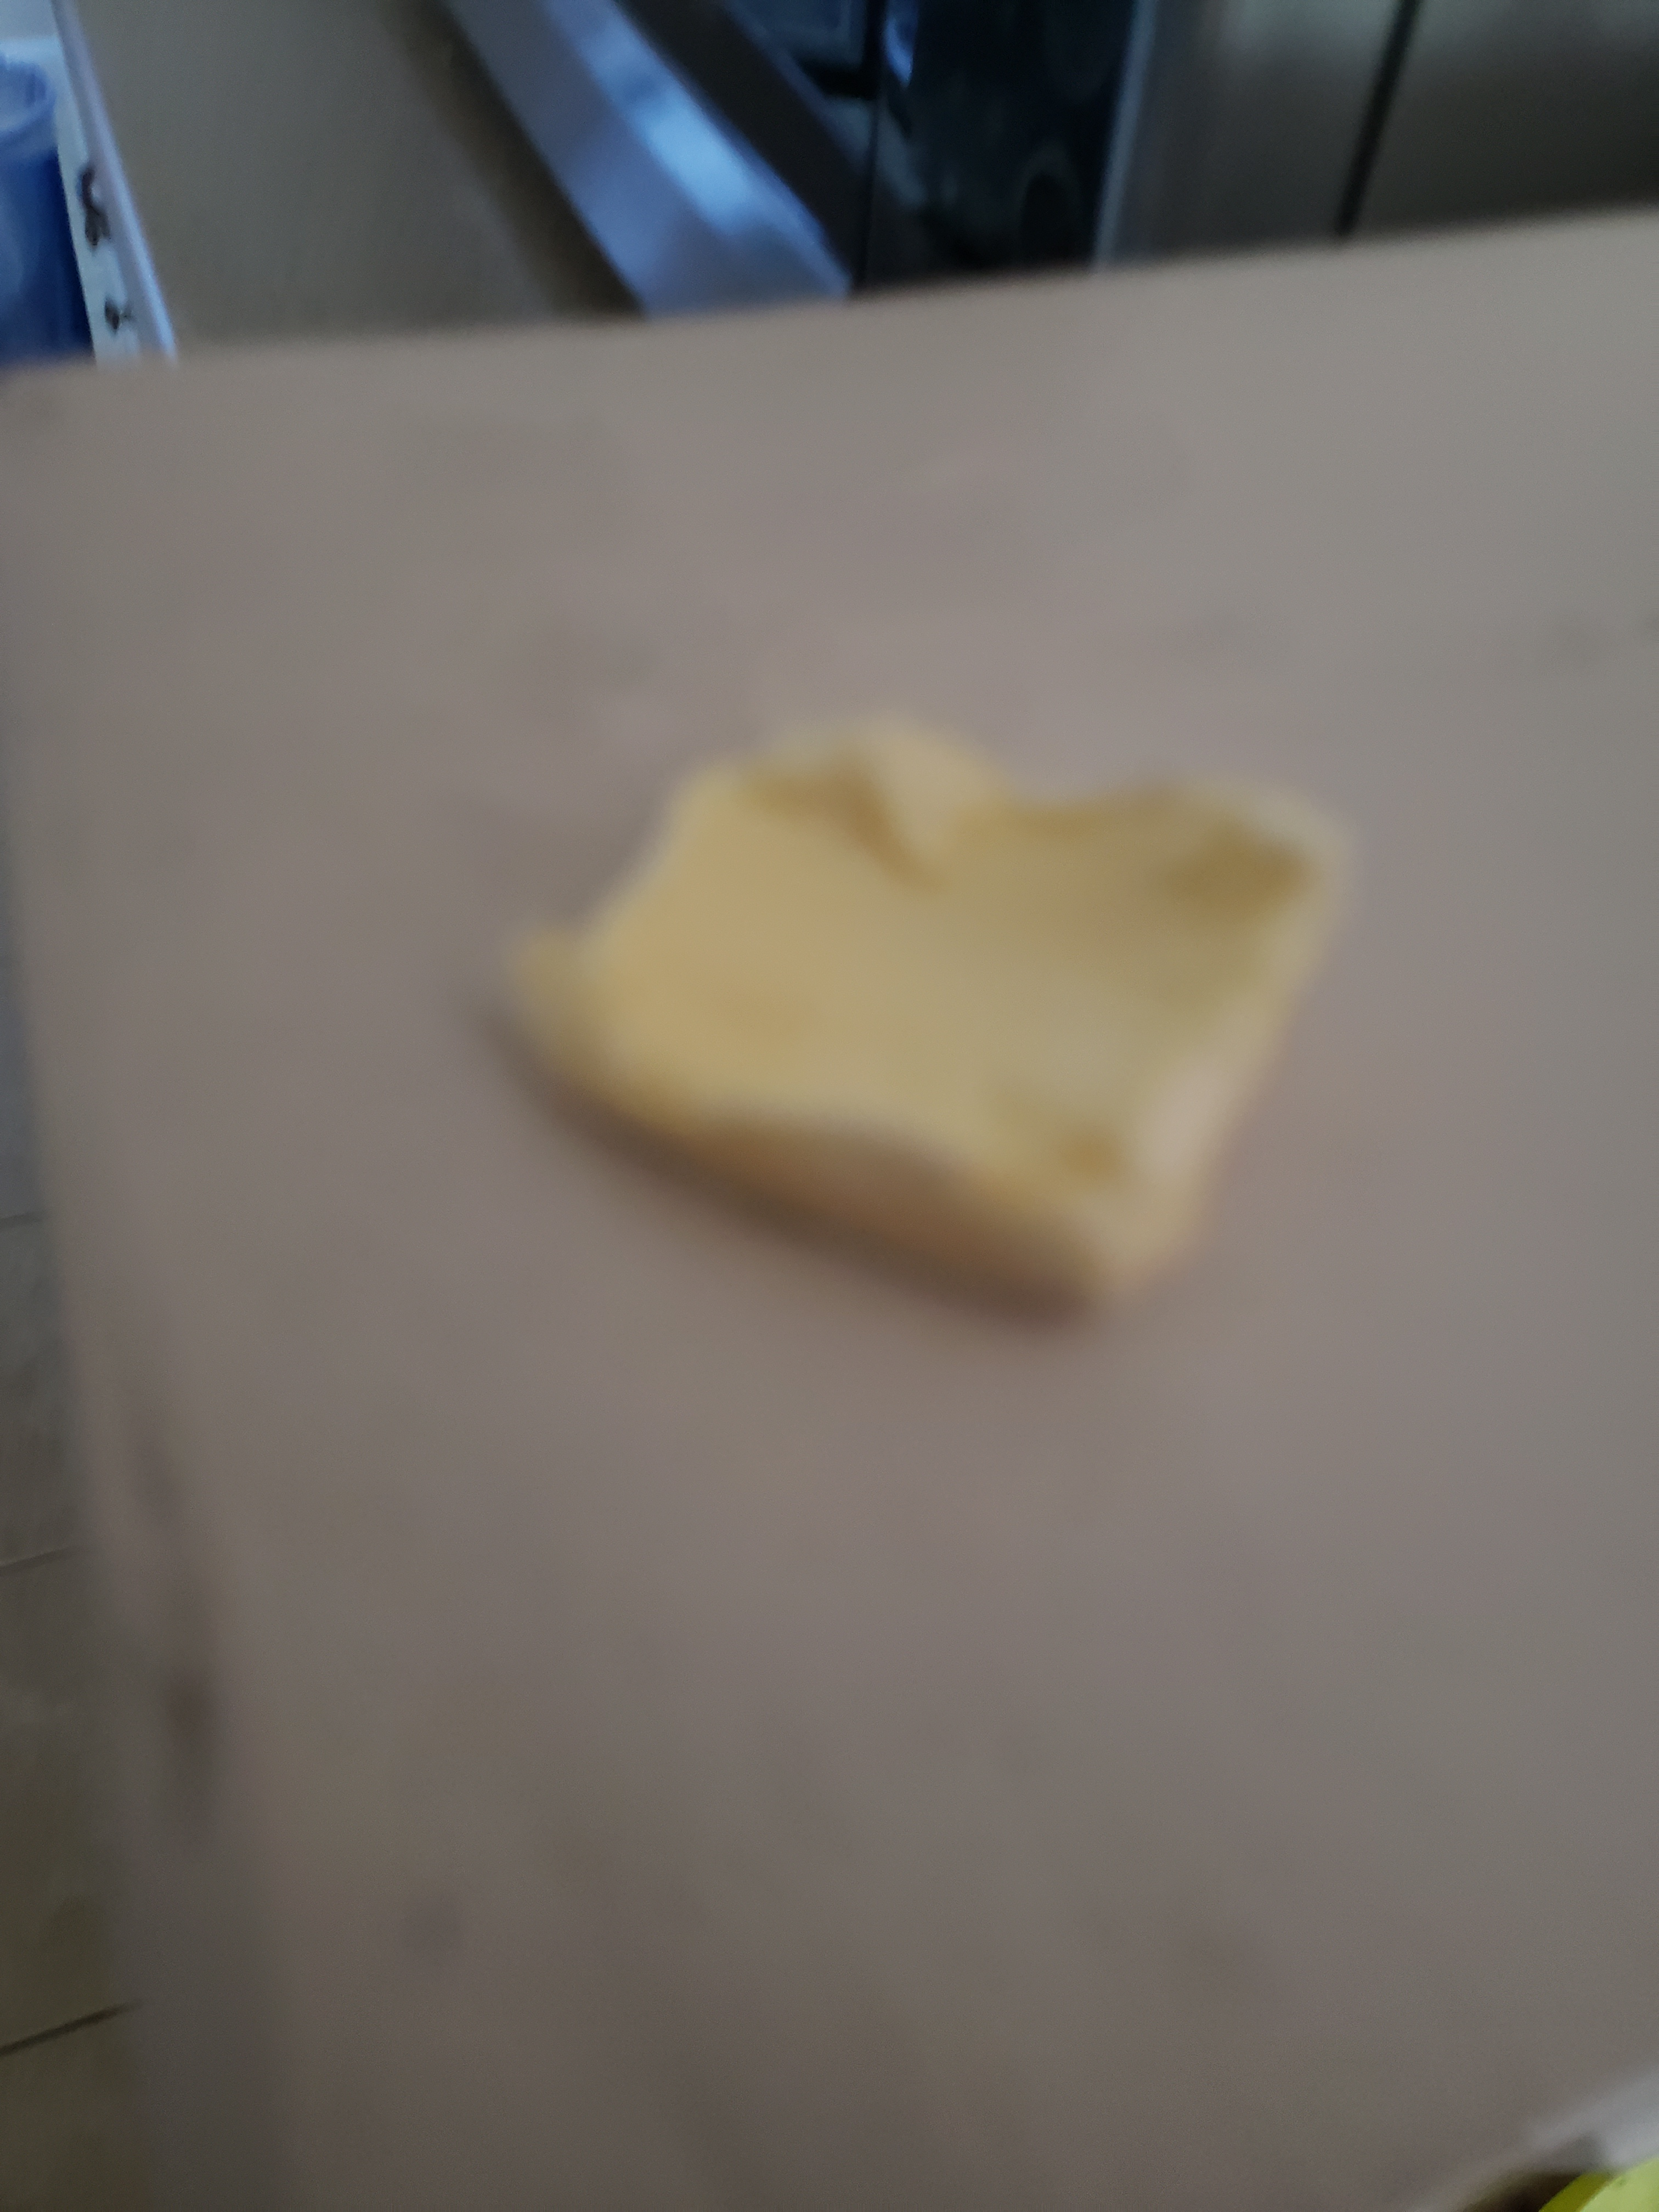Butter: (532, 726, 1385, 1291)
